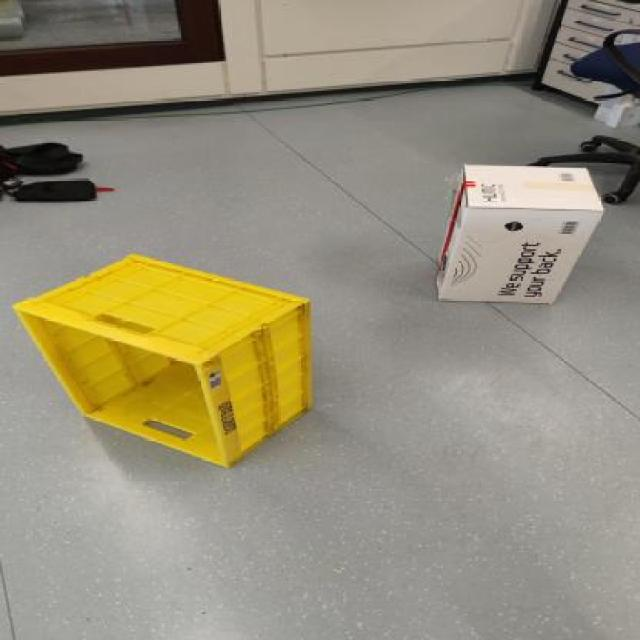box: (4, 238, 327, 516), (403, 158, 629, 347)
